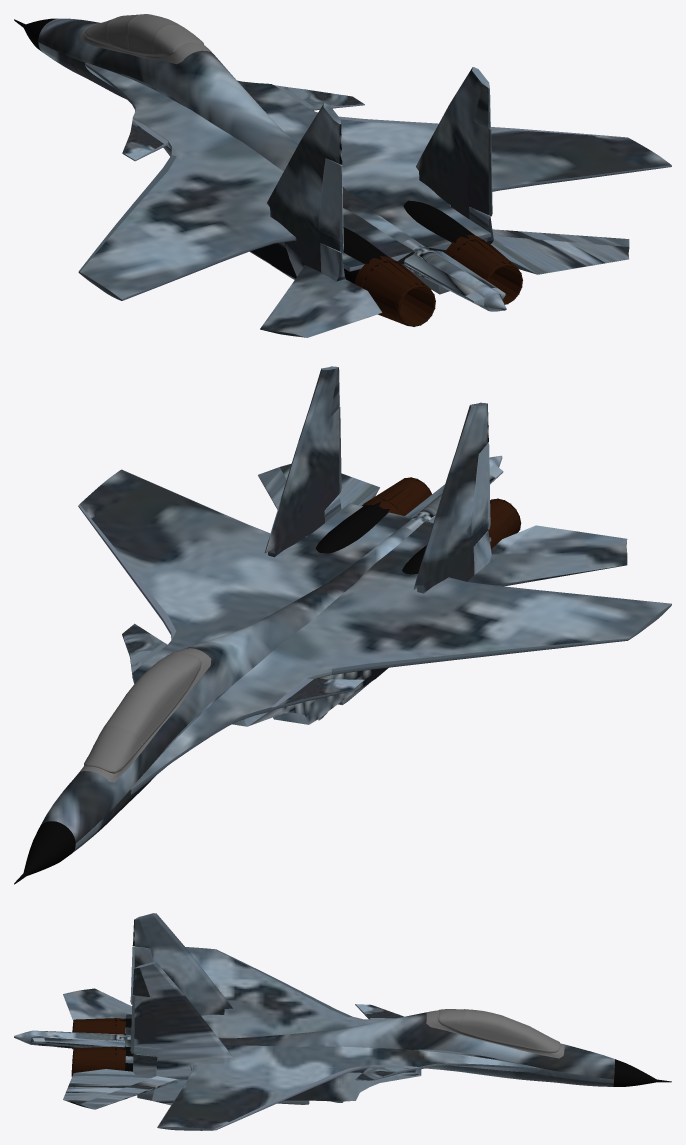
3 views of the same model, one above another, from view 1: azimuth 30°, elevation 25°; view 2: azimuth 150°, elevation 25°; view 3: azimuth 270°, elevation 25° (orthographic). The views are drawn at different scales.
Parts seen in each view (by area): view 1: aircraft; view 2: aircraft; view 3: aircraft.
Part boxes in pixels (x1,y1,x2,y2): aircraft: [14, 14, 671, 337]; aircraft: [14, 366, 671, 884]; aircraft: [14, 913, 671, 1130].
Size of the model in its own units: 461 by 178 by 710.
10 materials, 4 textured.
